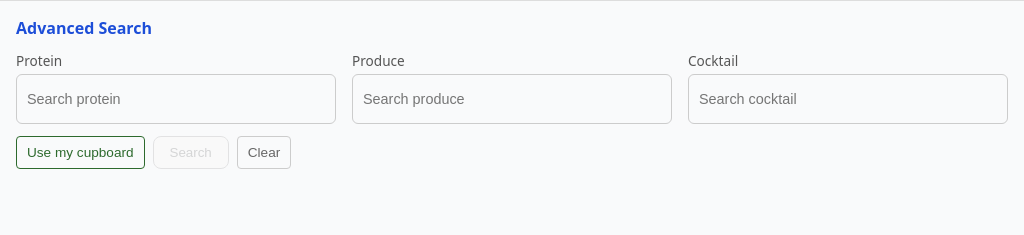
Scenario: AdvancedSearch › clicking a "Did you mean...?" suggestion selects the existing ingredient instead of creating a new one
The image size is (1024, 235).
Type "Chiken" into the field with id "ingredient-category-1" at (176, 99), box 25,90 -> 327,108
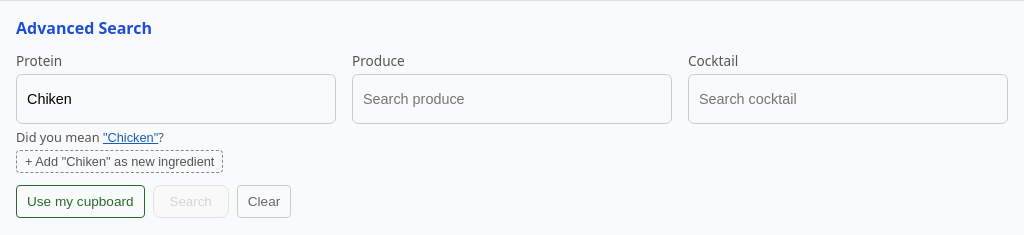
Press Enter in the field with id "ingredient-category-1", box 25,90 -> 327,108
Click the button with class "suggestion-btn" at (131, 138), box 103,130 -> 158,145
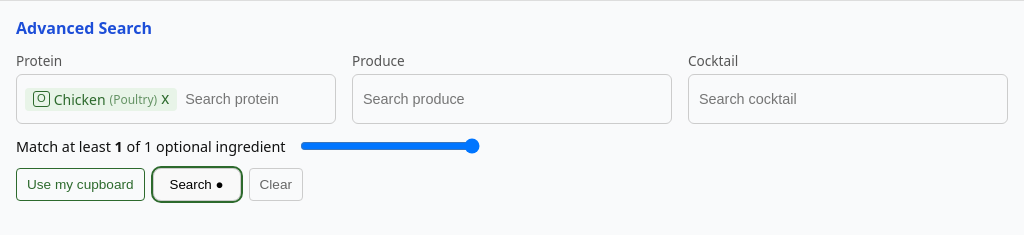
Expected: the number of elements with class "ingredient-tag" is 1, 25,88 -> 177,110
Expected: the element with class "ingredient-tag" shows "Chicken", 54,90 -> 106,108
Expected: the field with id "ingredient-category-1" is empty, 183,90 -> 327,108
